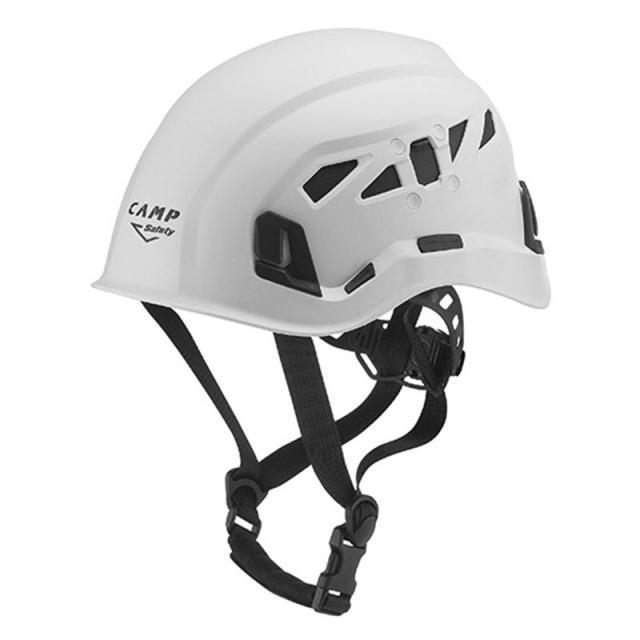safety_helmet: (90, 27, 552, 341)
